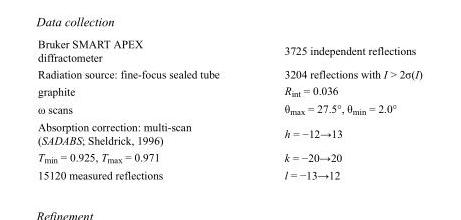table: (37, 37, 421, 180)
table column: (37, 37, 251, 180), (251, 37, 421, 180)
table row: (37, 117, 421, 148), (37, 37, 421, 65), (37, 81, 421, 99), (37, 99, 421, 117), (37, 148, 421, 166), (37, 65, 421, 81), (37, 166, 421, 180)
